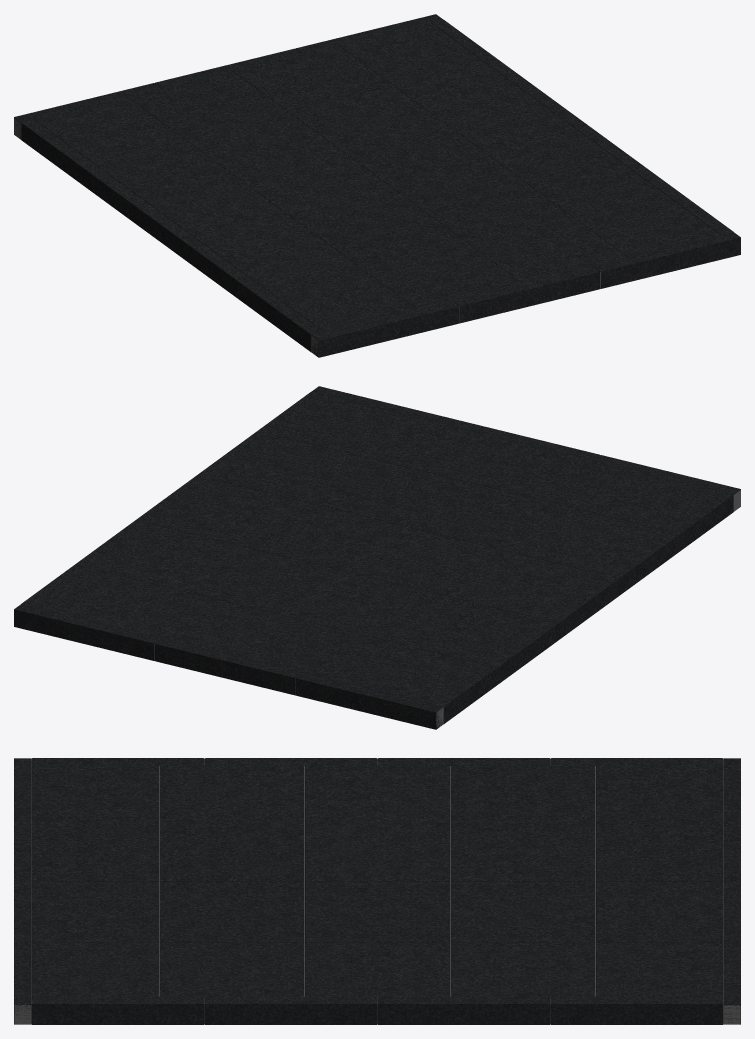
Rendered from floor-black-standard.glb.
3 renders of one model, top to bottom at view 1: azimuth 30°, elevation 25°; view 2: azimuth 150°, elevation 25°; view 3: azimuth 270°, elevation 25°, orthographic. The views are drawn at different scales.
Visible parts, largest first — view 1: Stone_field_black, Stone_edge_black; view 2: Stone_field_black, Stone_edge_black; view 3: Stone_field_black, Stone_edge_black, Joint_and_bedding_black.
Boxes of the visible parts, left/top/right/bottom form: Stone_field_black: left=34, top=22, right=720, bottom=331; Stone_edge_black: left=14, top=14, right=740, bottom=357; Stone_field_black: left=34, top=394, right=720, bottom=703; Stone_edge_black: left=14, top=386, right=740, bottom=729; Stone_field_black: left=31, top=765, right=723, bottom=996; Stone_edge_black: left=14, top=758, right=740, bottom=1024; Joint_and_bedding_black: left=14, top=759, right=740, bottom=1024.
Size of the model in its own units: 2.4 by 0.096 by 3.
3 materials, 2 textured.
